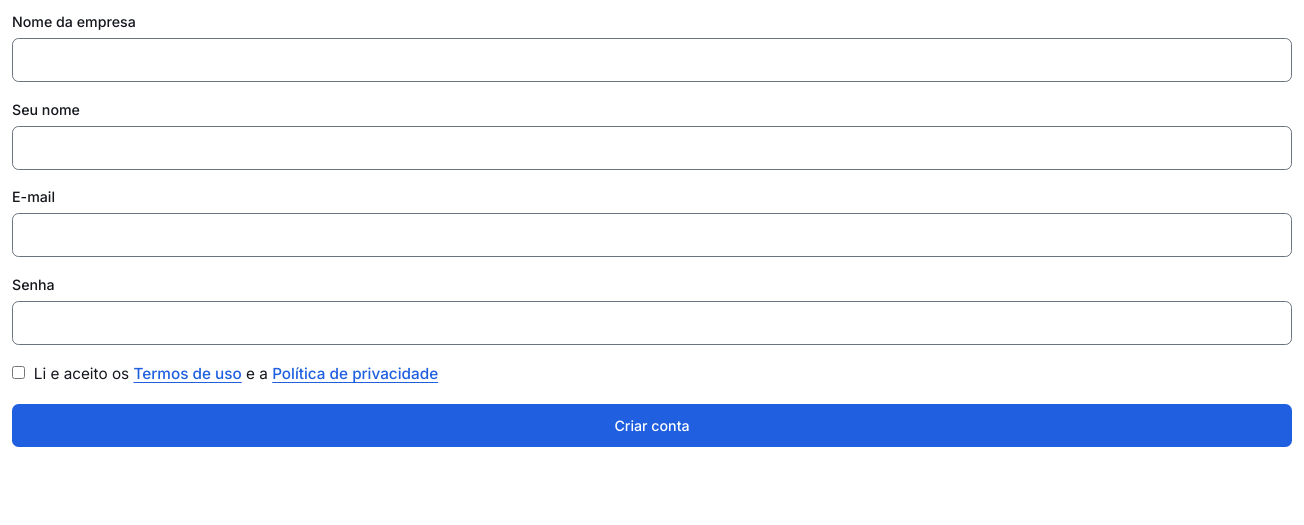
Scenario: FormularioCadastro › mostra erro da API em português
Type "Loja Centro" into the field labelled "Nome da empresa". click: (652, 60)
box: top-left (12, 38), bottom-right (1292, 82)
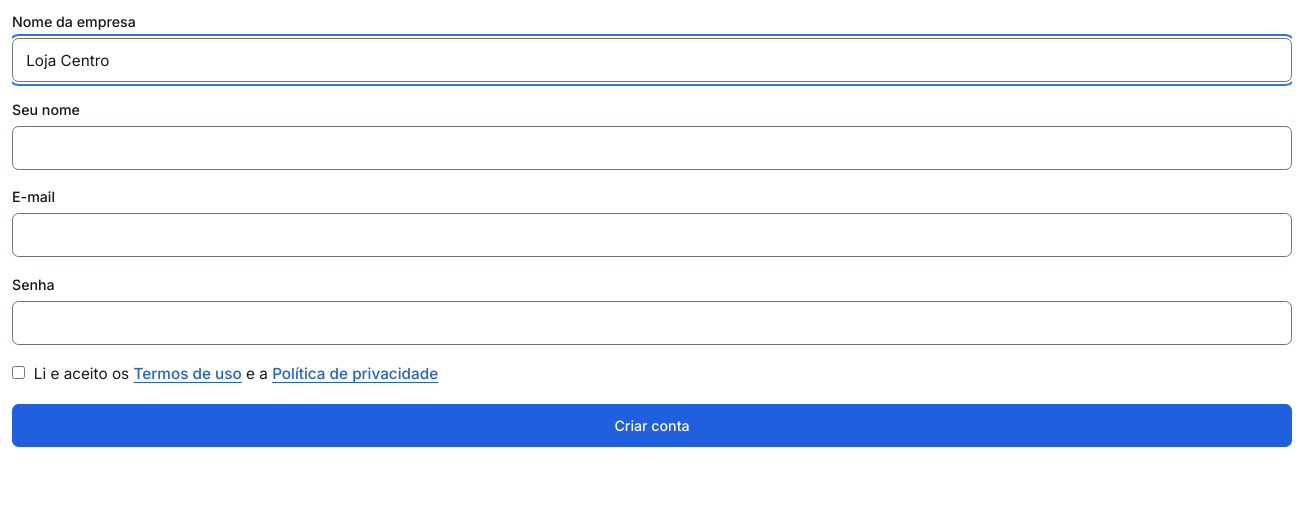
Type "Ana Souza" into the field labelled "Seu nome". click: (652, 148)
box: top-left (12, 126), bottom-right (1292, 170)
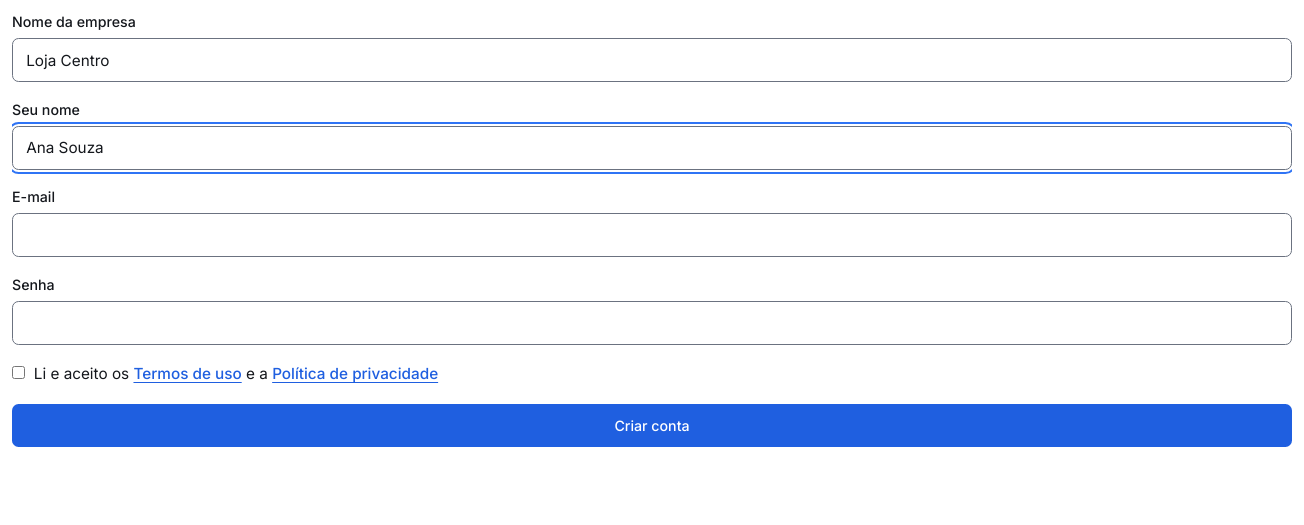
Type "ana@empresa.com.br" into the field labelled "E-mail". click: (652, 235)
box: top-left (12, 213), bottom-right (1292, 257)
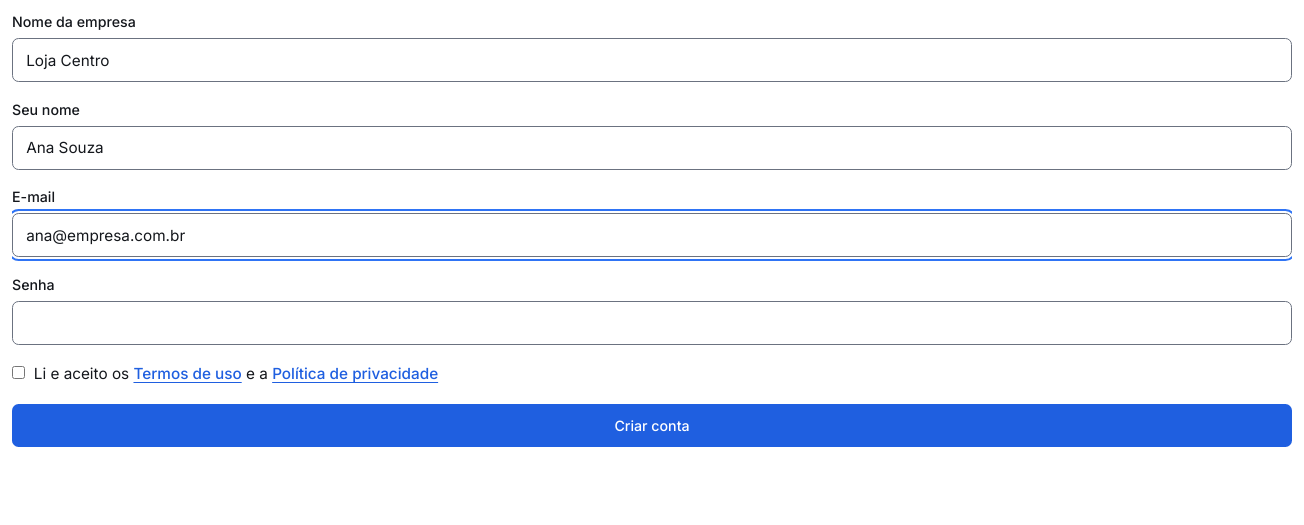
Type "uma-senha-longa-123" into the password field labelled "Senha". click: (652, 323)
box: top-left (12, 301), bottom-right (1292, 345)
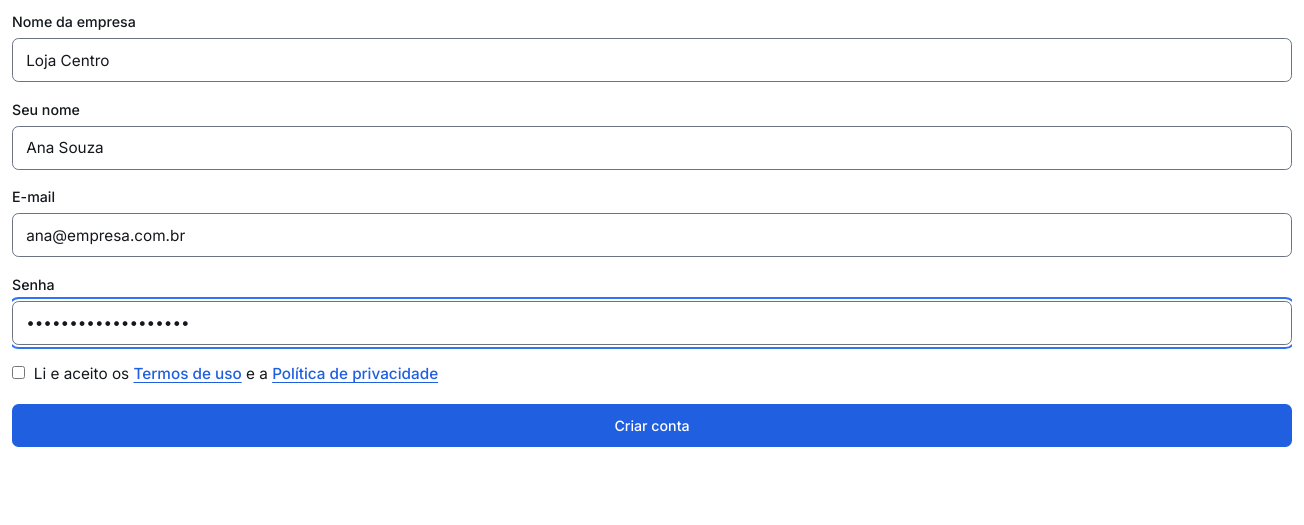
Click the checkbox. click: (18, 373)
box: top-left (12, 366), bottom-right (25, 379)
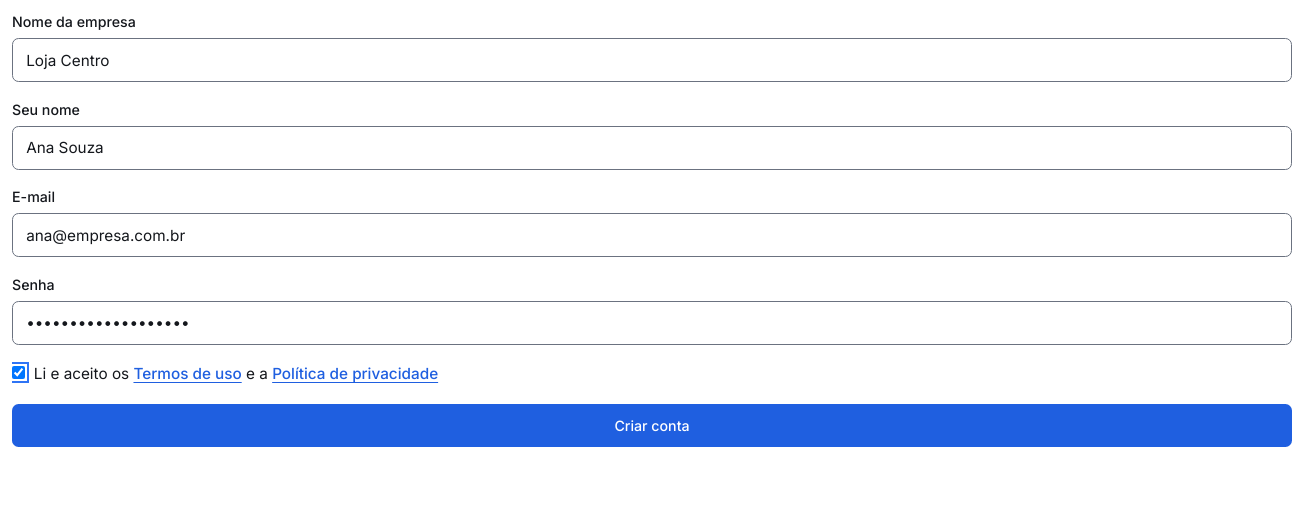
Click the button "Criar conta". click: (652, 426)
box: top-left (12, 404), bottom-right (1292, 447)
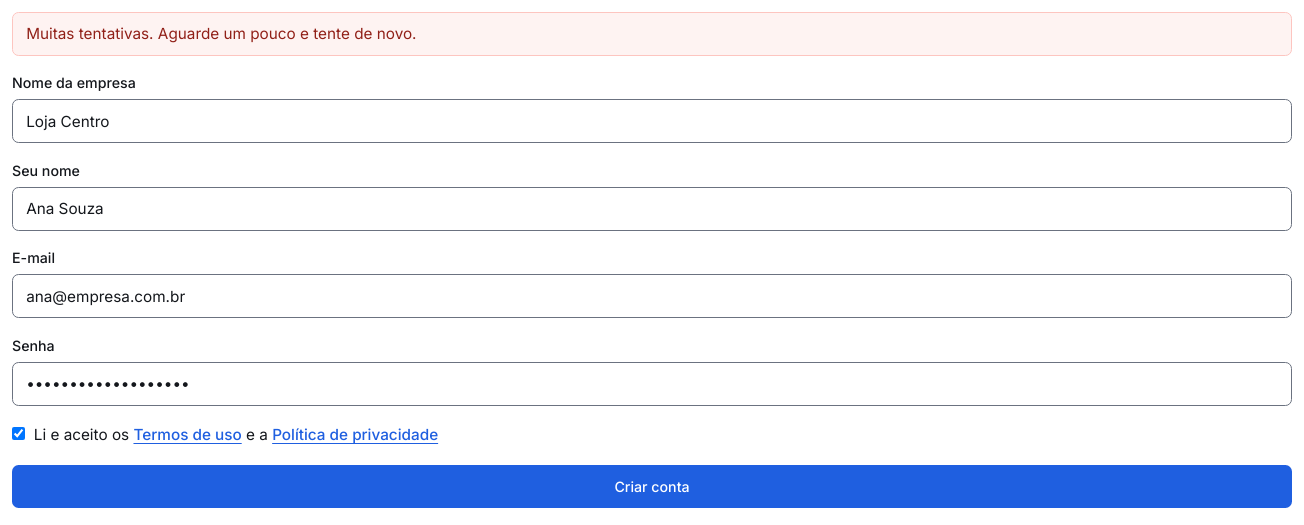
Expected: the message shows "Muitas tentativas", top-left (26, 24), bottom-right (416, 43)
